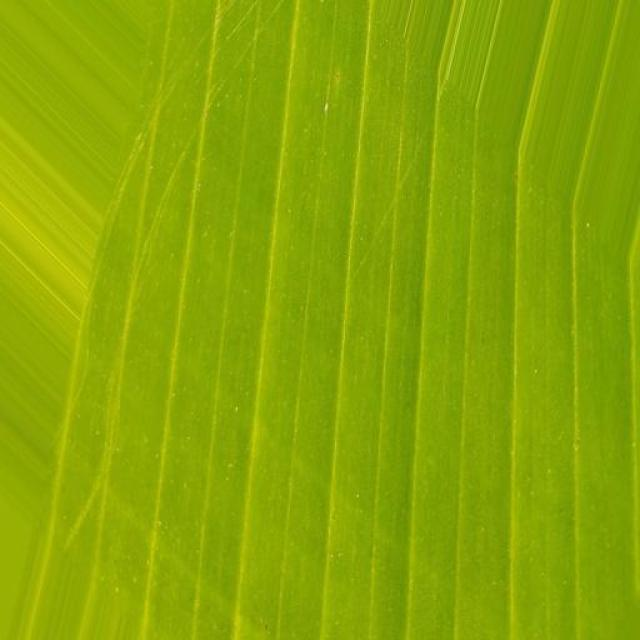Black_leaf_spot: (92, 18, 640, 609)
